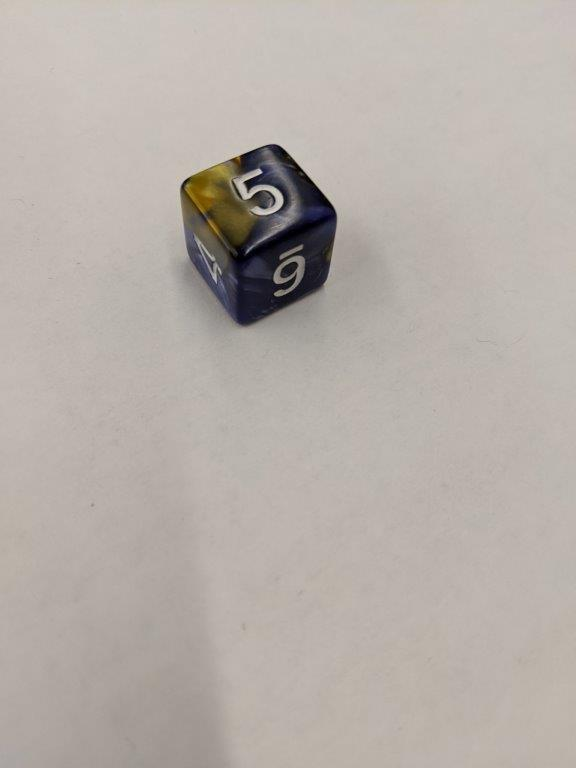d6-5: (178, 142, 338, 327)
